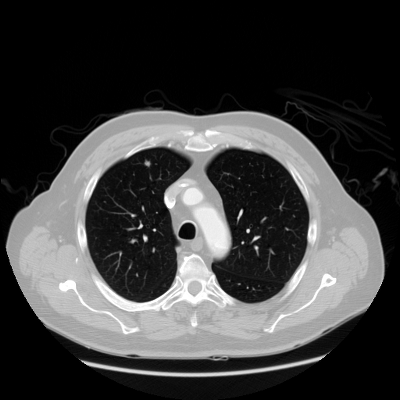nodule: (143, 159, 151, 167)
